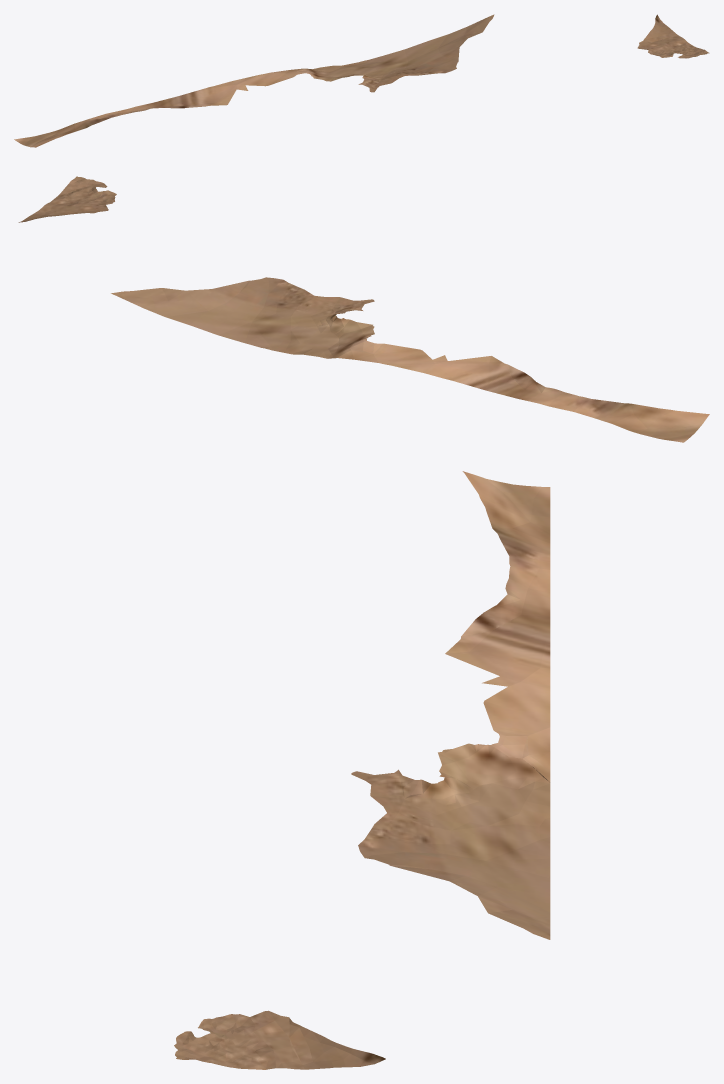
3 views of the same model, one above another, from view 1: azimuth 30°, elevation 25°; view 2: azimuth 150°, elevation 25°; view 3: azimuth 270°, elevation 25° (orthographic). The views are drawn at different scales.
Bounding box in the file's own units: 2.09 × 0.049 × 0.5652.
1 material, 1 textured.
